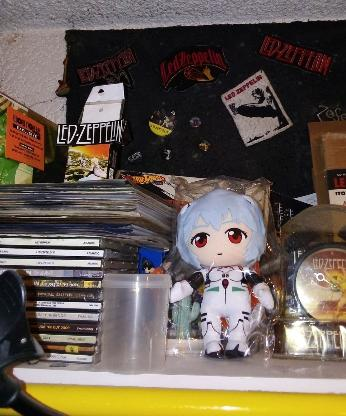rei-plush: (165, 186, 278, 364)
